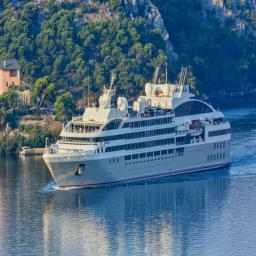cruises: (43, 66, 235, 194)
